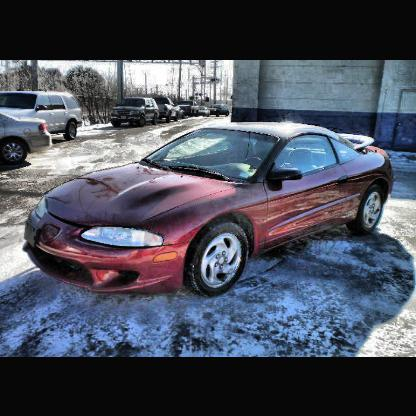Eagle Talon Hatchback 1998: (26, 122, 391, 298)
